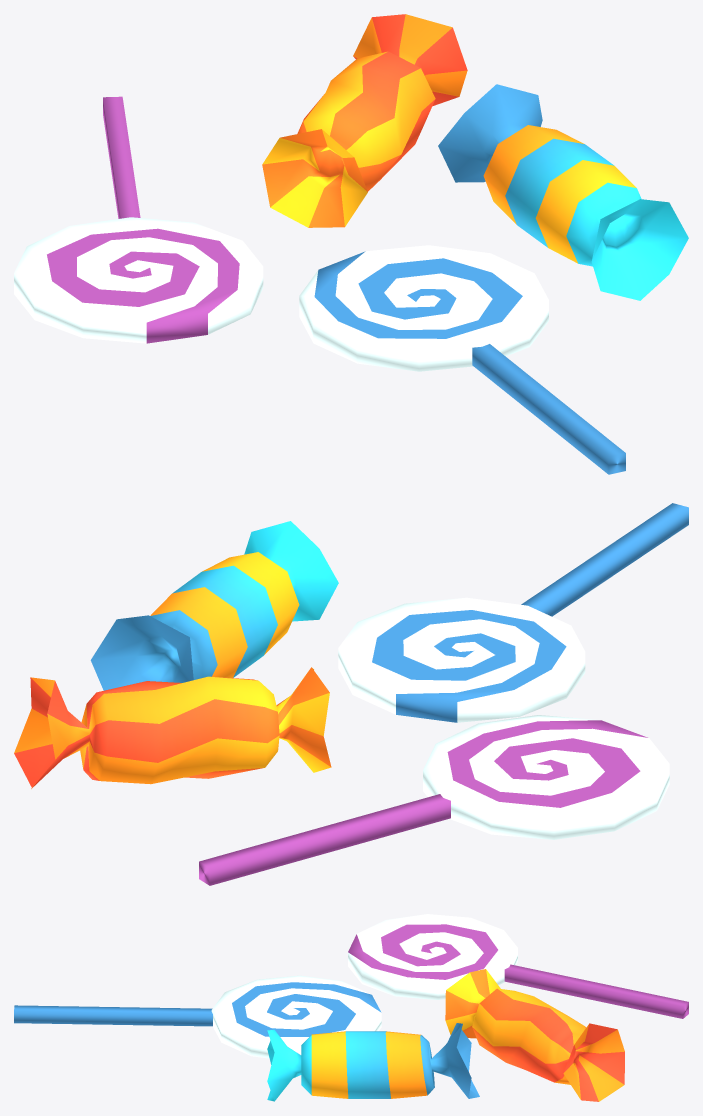
Rendered from sweets.glb.
The picture shows the model from 3 angles, top to bottom: view 1: azimuth 30°, elevation 25°; view 2: azimuth 150°, elevation 25°; view 3: azimuth 270°, elevation 25°; orthographic projection. The views are drawn at different scales.
Visible parts, largest first — view 1: Candy.03, Candy.04, Candy.01, Candy.02; view 2: Candy.04, Candy.03, Candy.02, Candy.01; view 3: Candy.04, Candy.03, Candy.02, Candy.01.
Boxes of the visible parts, x1=… form: Candy.03: x1=299, y1=245, x2=625, y2=474; Candy.04: x1=14, y1=96, x2=263, y2=343; Candy.01: x1=438, y1=84, x2=688, y2=300; Candy.02: x1=262, y1=14, x2=467, y2=227; Candy.04: x1=199, y1=715, x2=669, y2=885; Candy.03: x1=338, y1=503, x2=688, y2=722; Candy.02: x1=14, y1=667, x2=331, y2=788; Candy.01: x1=90, y1=521, x2=338, y2=690; Candy.04: x1=348, y1=914, x2=688, y2=1018; Candy.03: x1=14, y1=975, x2=381, y2=1058; Candy.02: x1=445, y1=969, x2=624, y2=1101; Candy.01: x1=267, y1=1023, x2=479, y2=1101.
Bounding box in the file's own units: 2.07 × 0.4149 × 3.29.
Materials: 1 (1 with a texture image).
